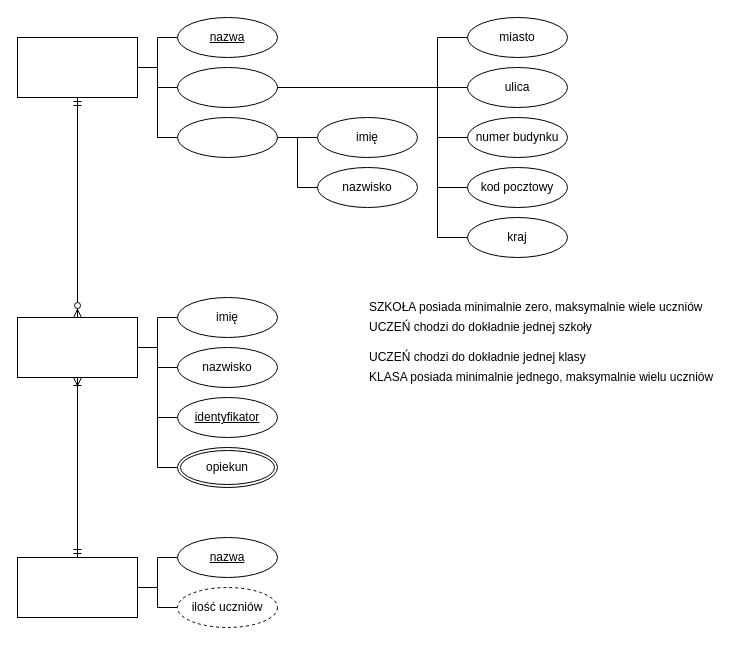
This 755x645 diagram has some shape labels left out. Here are the shapes that lost their labels. From the top down, the box of each, then its label:
(16, 36, 138, 98): SZKOŁA
(176, 66, 278, 108): adres
(176, 116, 278, 158): dyrektor
(16, 316, 138, 378): UCZEŃ
(16, 556, 138, 618): KLASA
